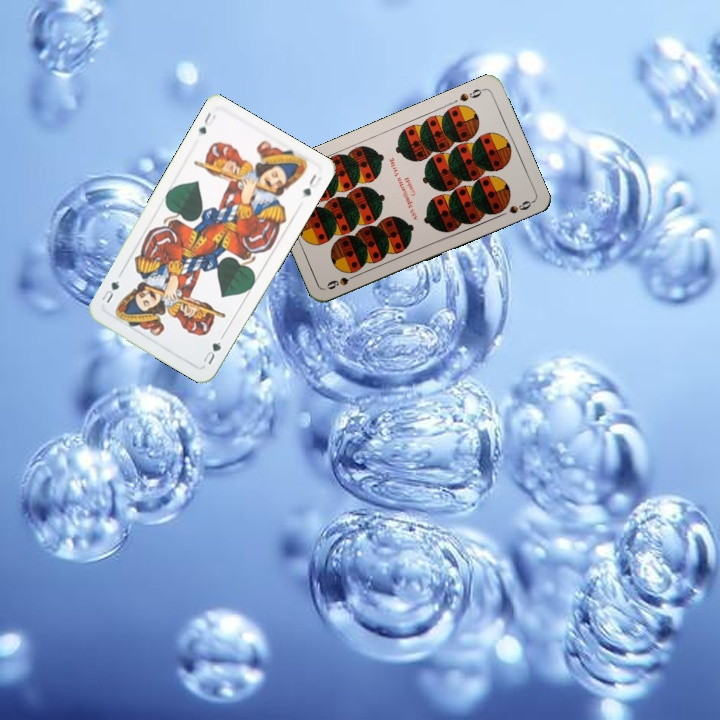GU: (199, 337, 224, 367), (194, 108, 218, 137)
S9: (322, 270, 361, 292), (456, 84, 487, 104)
